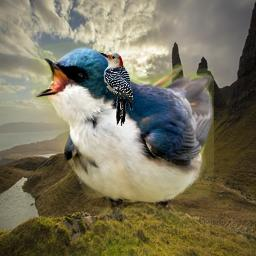Swallow: (30, 42, 214, 215)
Woodpecker: (99, 52, 133, 126)
